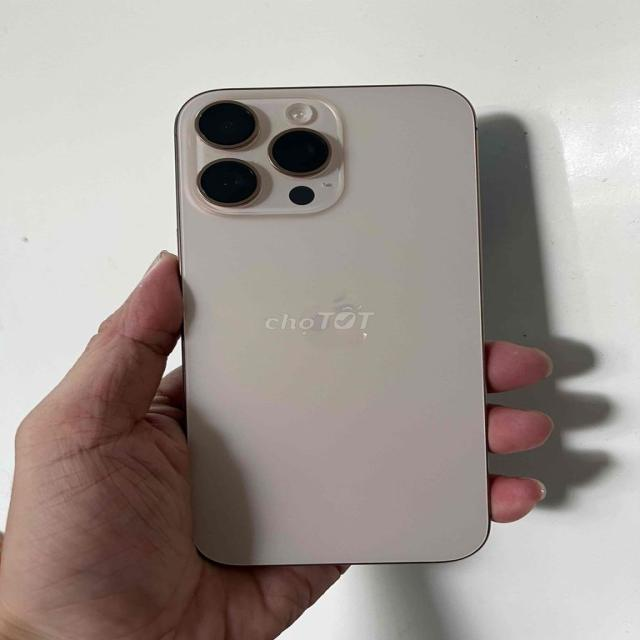gen_16: (175, 85, 489, 565)
